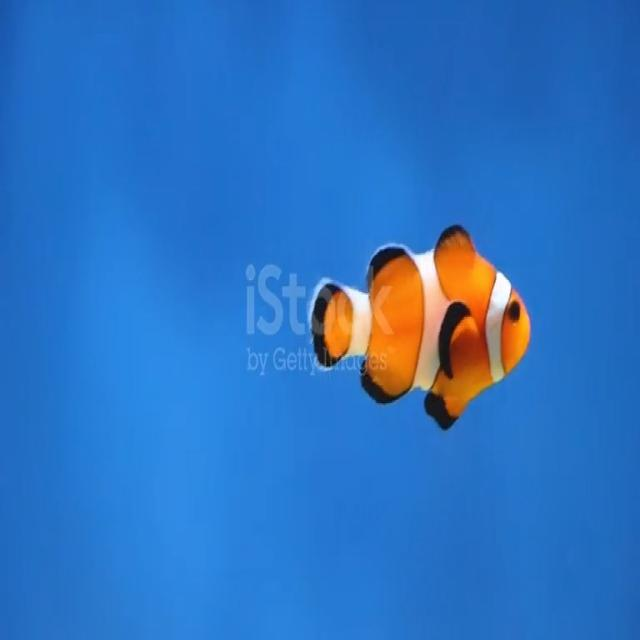fish: (307, 221, 532, 434)
